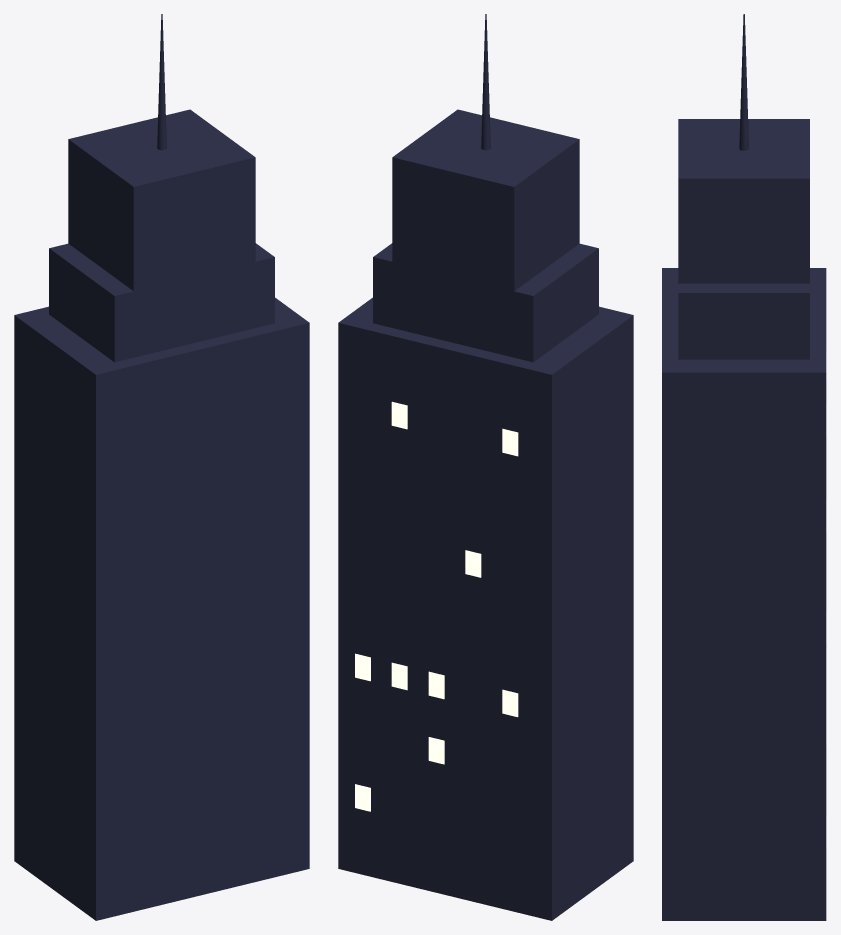
The model's file is Tower1.fbx.
The picture shows the model from 3 angles, left to right: view 1: azimuth 30°, elevation 25°; view 2: azimuth 150°, elevation 25°; view 3: azimuth 270°, elevation 25°; orthographic projection.
Parts seen in each view (by area): view 1: Tower; view 2: Tower, Windows; view 3: Tower.
Part boxes in pixels (x1,y1,x2,y2): Tower: [14, 14, 309, 920]; Tower: [338, 14, 633, 920]; Windows: [355, 401, 518, 811]; Tower: [662, 14, 826, 920].
Bounding box in the file's own units: 7.54 × 28.69 × 5.02.
